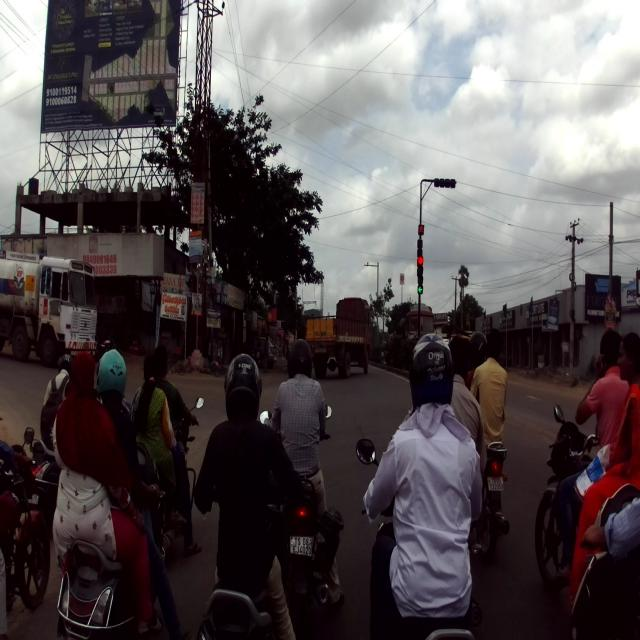motorcycle: (260, 404, 344, 628), (534, 408, 605, 593), (467, 440, 510, 559)
scooter: (54, 438, 167, 639)
